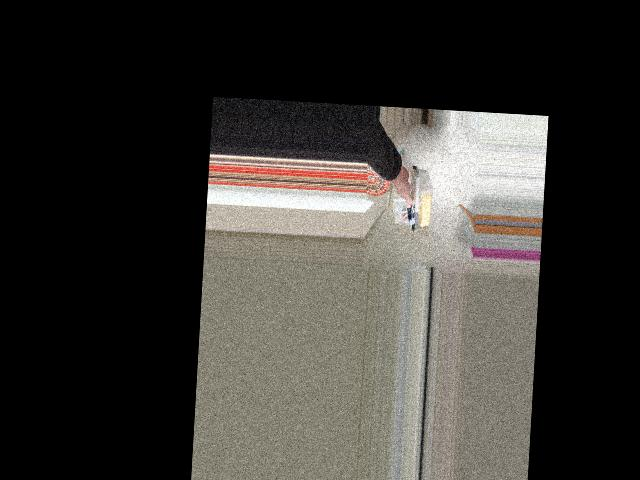cheese: (370, 159, 439, 231)
